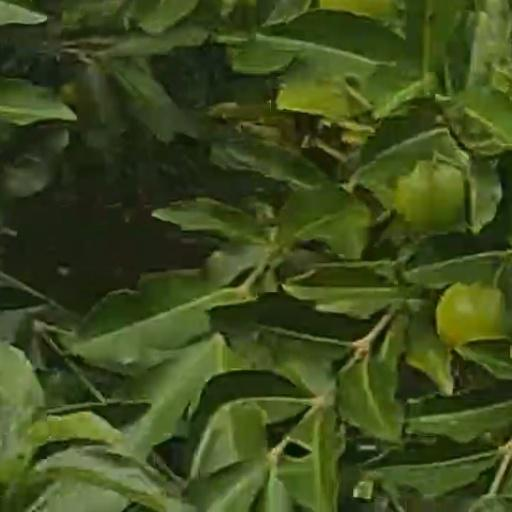acerola: (403, 162, 461, 228), (437, 282, 501, 341)
